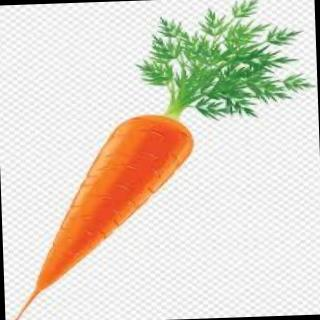Wortel: (23, 89, 204, 294)
